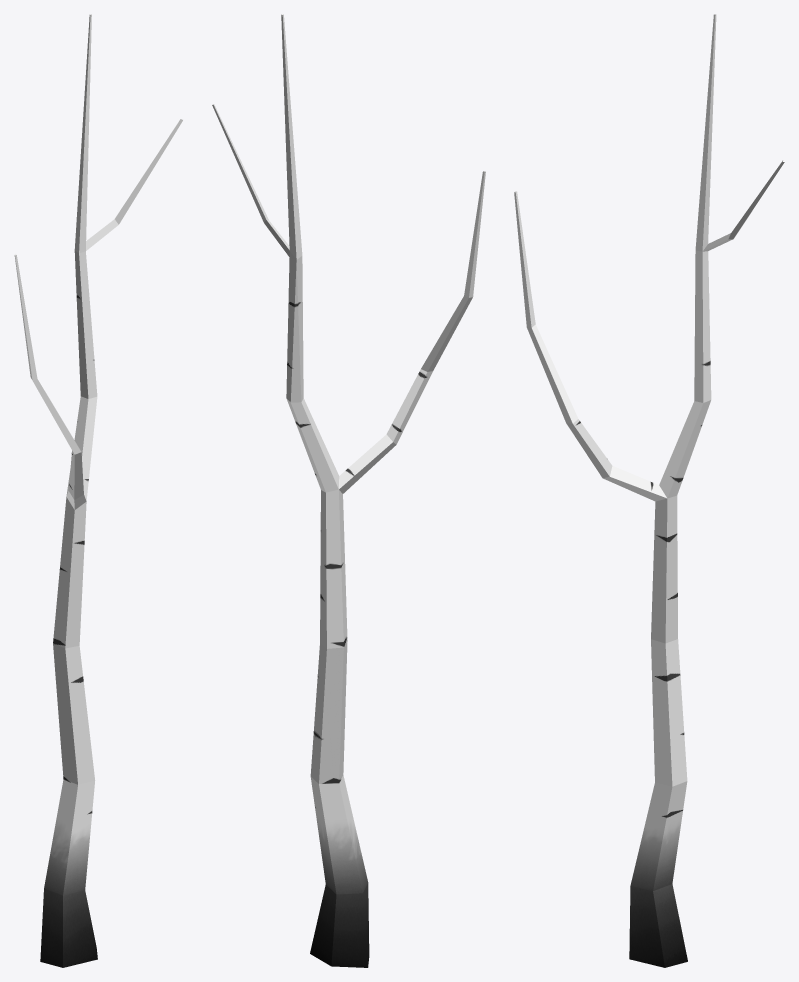
The model's file is Birch_Tree_NoLeaves_l_03.fbx.
3 renders of one model, left to right at view 1: azimuth 30°, elevation 25°; view 2: azimuth 150°, elevation 25°; view 3: azimuth 330°, elevation 25°, orthographic. The views are drawn at different scales.
Visible parts, largest first — view 1: Birch_Tree_NoLeaves_l_03; view 2: Birch_Tree_NoLeaves_l_03; view 3: Birch_Tree_NoLeaves_l_03.
Boxes of the visible parts, x1,y1,x2,y2 form: Birch_Tree_NoLeaves_l_03: [14, 14, 182, 967]; Birch_Tree_NoLeaves_l_03: [212, 14, 485, 967]; Birch_Tree_NoLeaves_l_03: [514, 14, 784, 967].
Size of the model in its own units: 326 by 1319 by 173.
